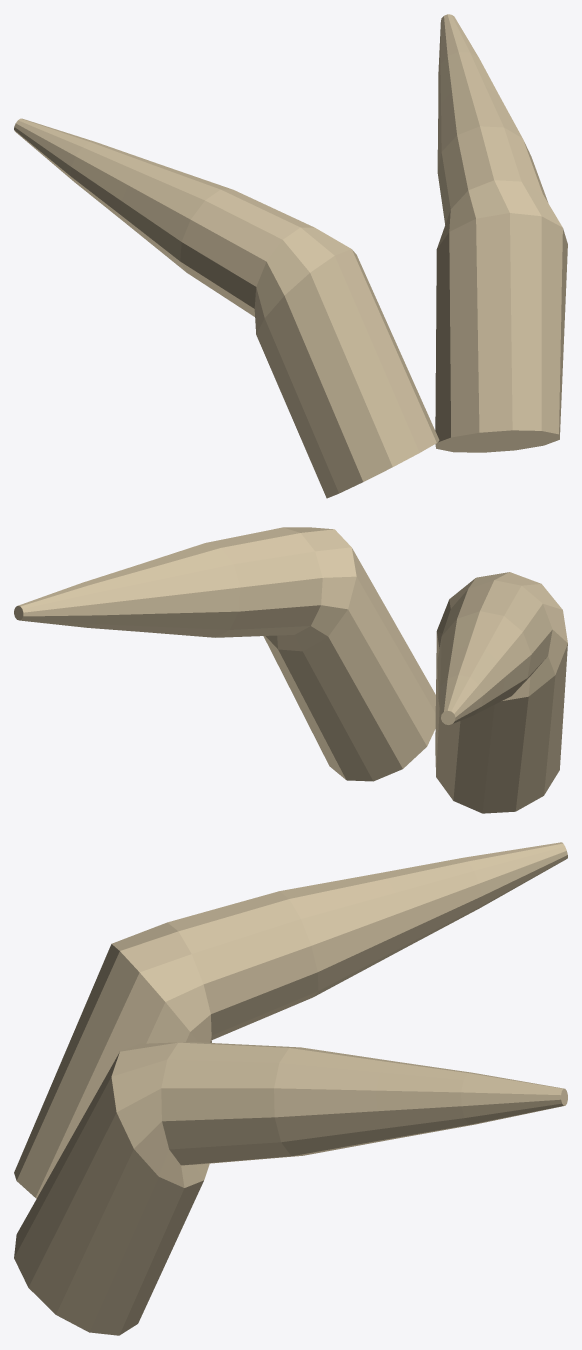
File: hornfortamaraw.fbx
The picture shows the model from 3 angles, top to bottom: view 1: azimuth 30°, elevation 25°; view 2: azimuth 150°, elevation 25°; view 3: azimuth 270°, elevation 25°; orthographic projection. The views are drawn at different scales.
Parts seen in each view (by area): view 1: Cylinder; view 2: Cylinder; view 3: Cylinder.
Part boxes in pixels (<box>): Cylinder: <box>14,14,567,498</box>; Cylinder: <box>14,527,567,813</box>; Cylinder: <box>14,842,567,1335</box>.
Size of the model in its own units: 170 by 99.63 by 157.
